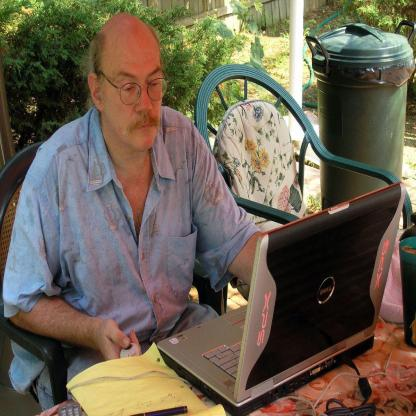board: (156, 180, 406, 414)
